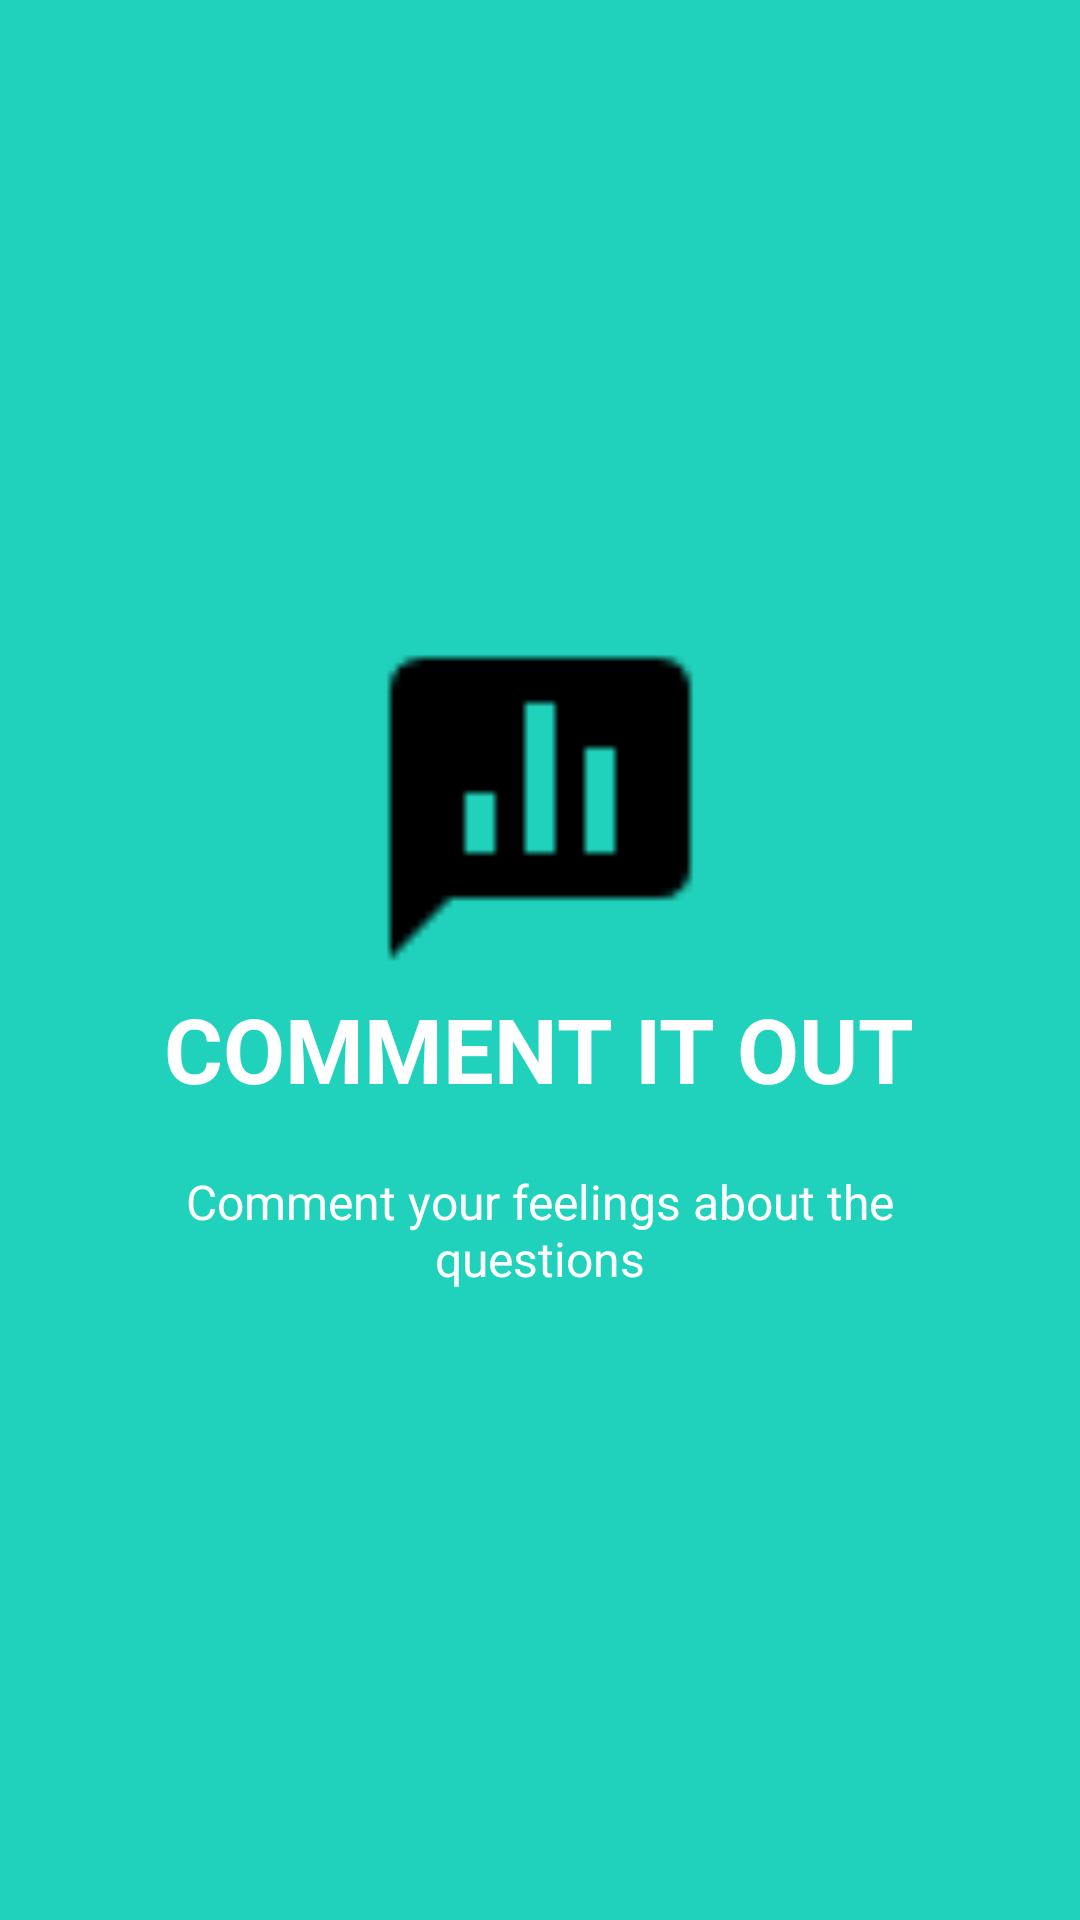

Named icons in this screenshot (1080 × 1920) and their bounding boxes, bbox(x1, y1, x2, y2):
poll: bbox(387, 655, 693, 960)
